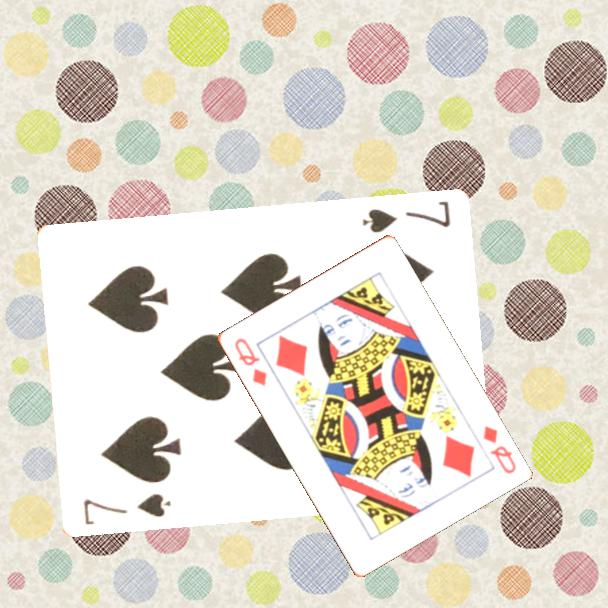d12: (479, 422, 519, 477), (230, 334, 269, 389)
s07: (358, 197, 453, 237), (79, 490, 173, 528)
